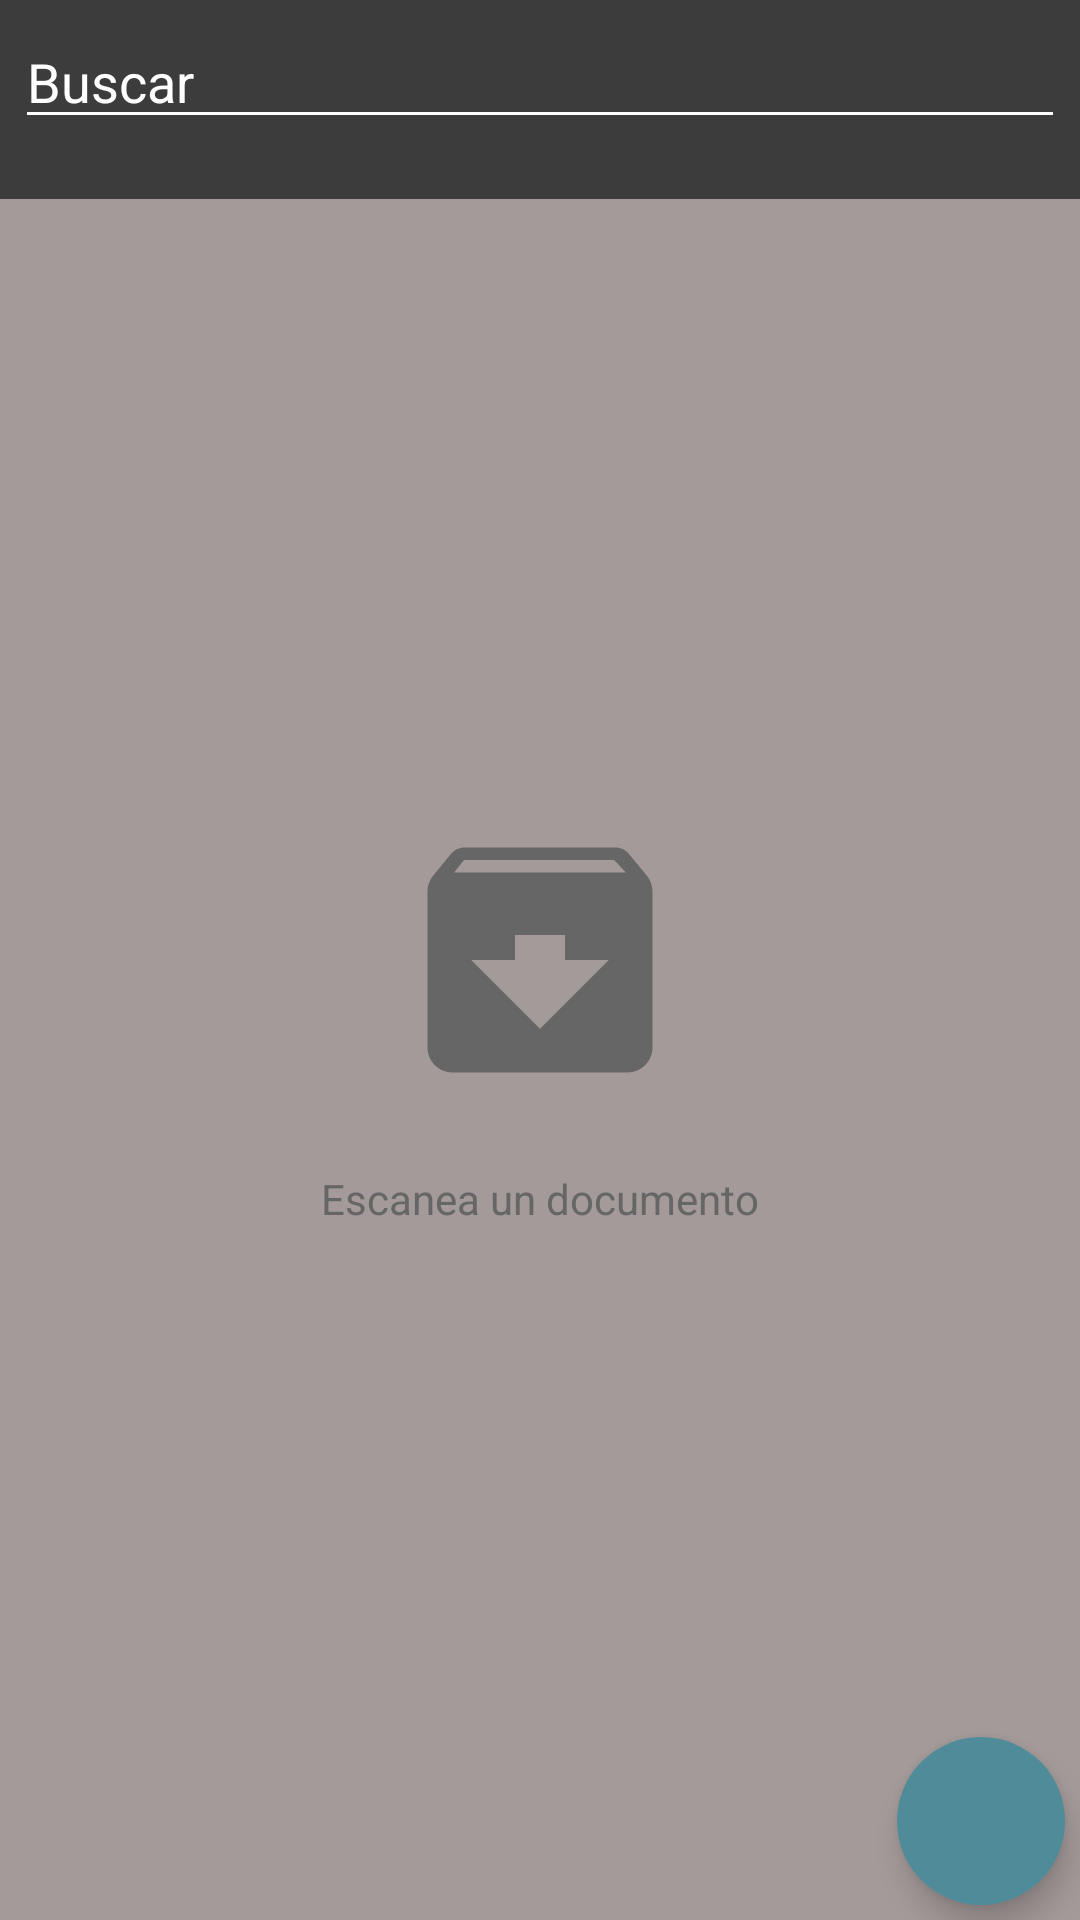

Icons on this 1080w x 1920h Android screen, each with its box as (x1, y1, x2, y2):
archive: (427, 847, 653, 1073)
